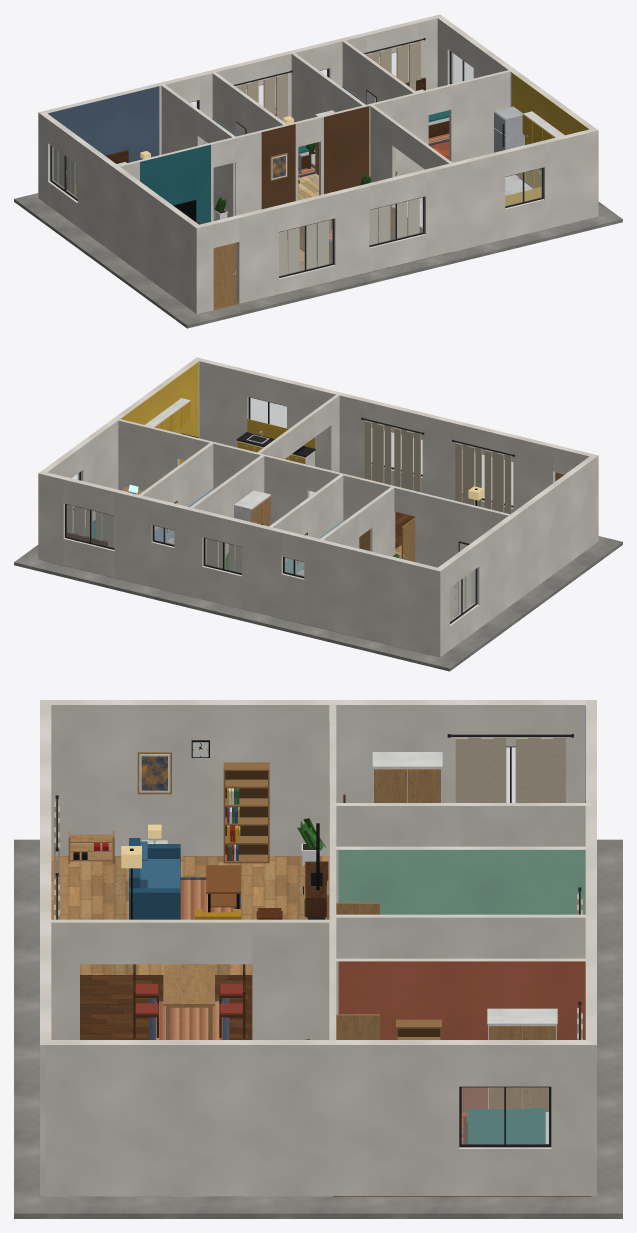
3 renders of one model, top to bottom at view 1: azimuth 30°, elevation 25°; view 2: azimuth 150°, elevation 25°; view 3: azimuth 270°, elevation 25°, orthographic. The views are drawn at different scales.
Parts seen in each view (by area): view 1: FurnishedHouse_Game; view 2: FurnishedHouse_Game; view 3: FurnishedHouse_Game.
Part boxes in pixels (x1,y1,x2,y2): FurnishedHouse_Game: [14, 14, 622, 328]; FurnishedHouse_Game: [14, 357, 622, 671]; FurnishedHouse_Game: [14, 700, 622, 1218].
Bounding box in the file's own units: 15.4 × 3.06 × 10.6.
65 materials, 61 textured.
